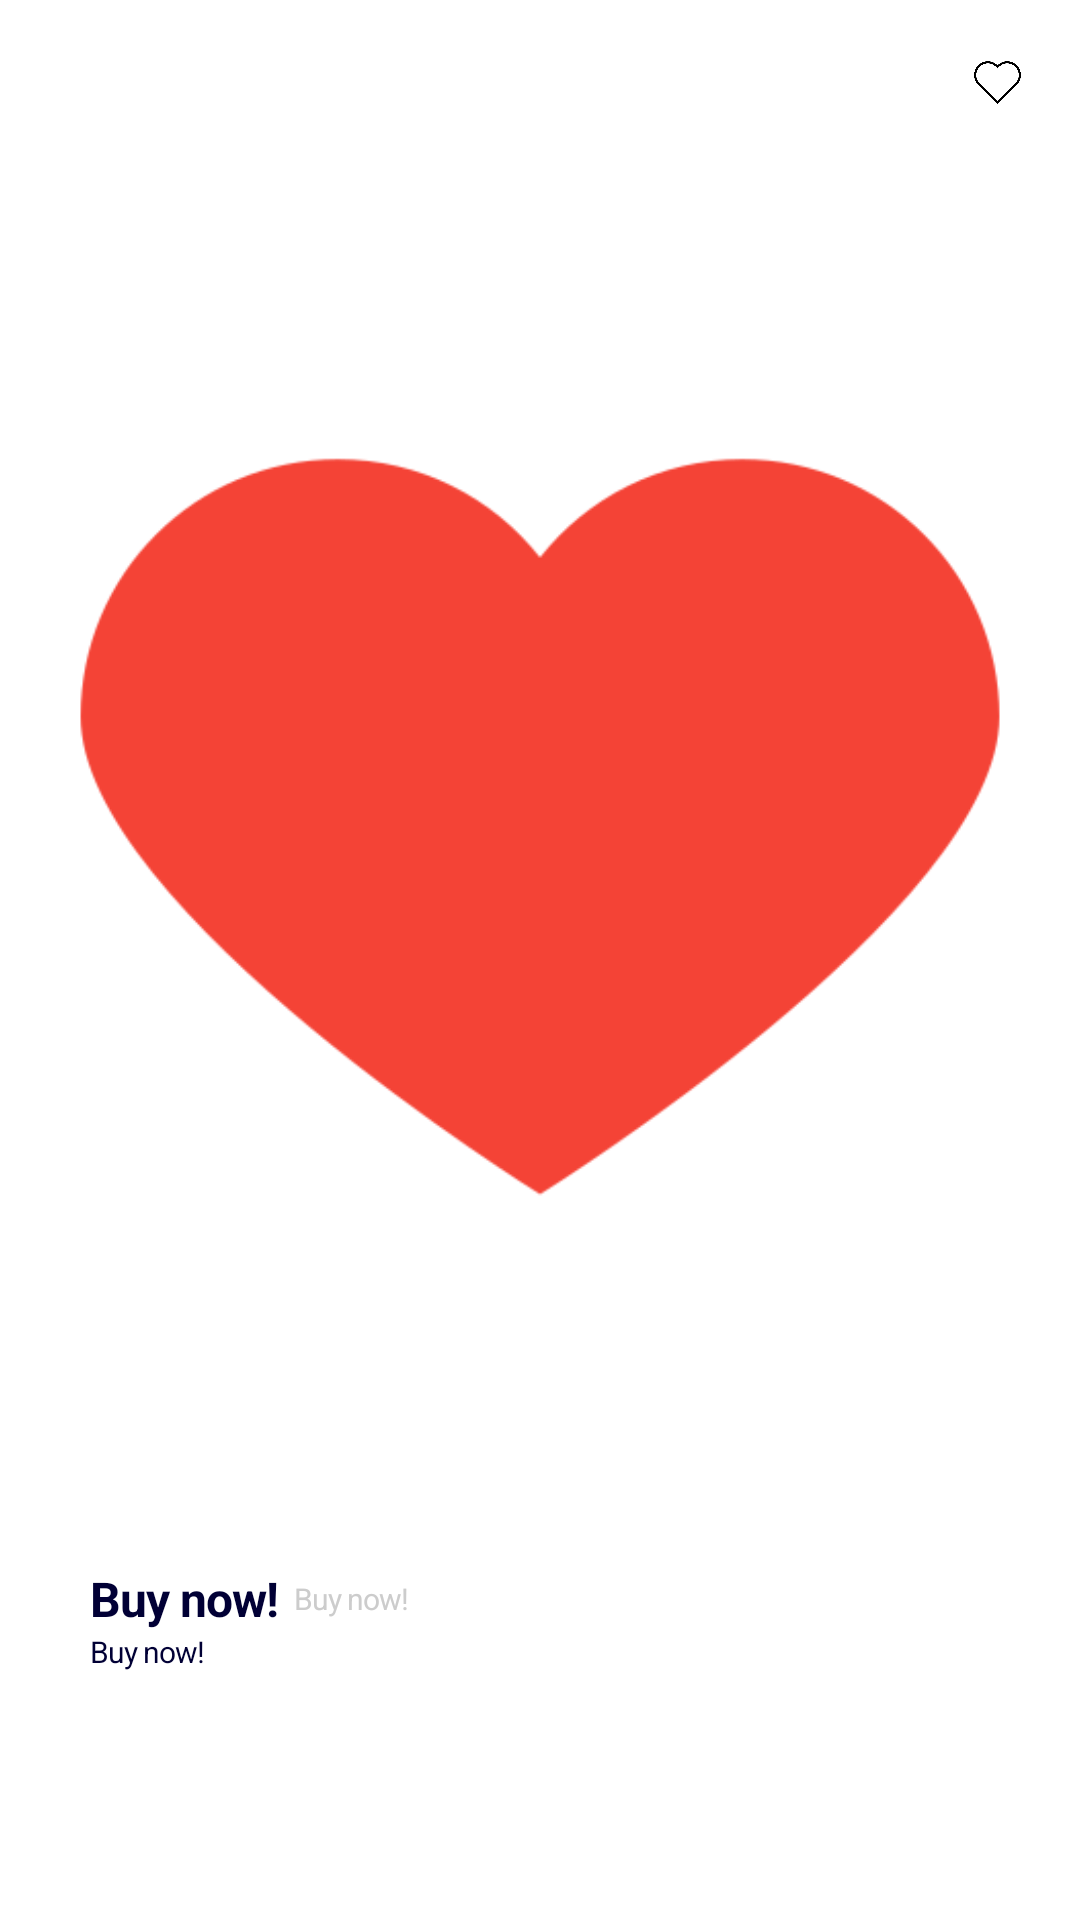

Screen size 1080*1920. Icon name, then its center in pixels as (x,y):
heart: (997,82)
